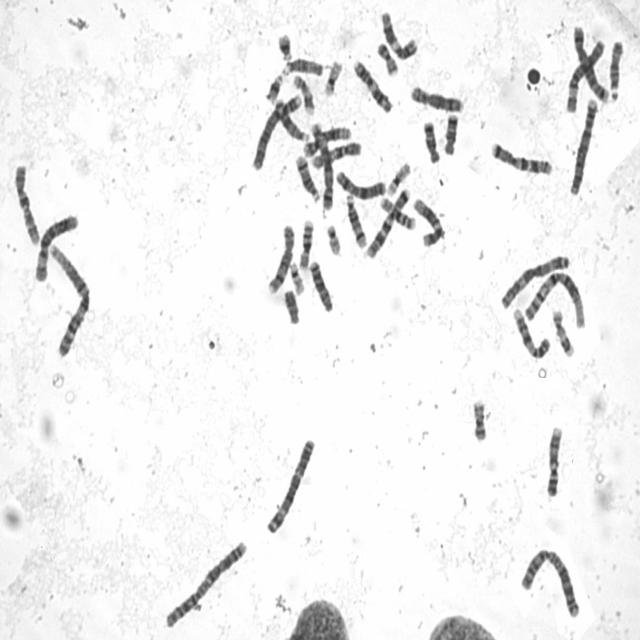A1: (46, 238, 92, 359), (522, 267, 587, 330)
A2: (162, 534, 250, 631), (518, 543, 584, 620)
A3: (263, 433, 317, 536), (496, 250, 572, 312)
B4: (250, 88, 304, 172), (567, 93, 600, 197)
B5: (570, 20, 611, 104), (306, 117, 336, 213)
C10: (11, 158, 42, 247), (308, 136, 363, 171)
C11: (350, 55, 394, 115), (377, 6, 419, 61)
C12: (410, 193, 446, 248), (300, 121, 352, 157)
C6: (32, 209, 80, 283), (563, 34, 607, 114)
C7: (362, 182, 413, 260), (488, 136, 554, 177)
C8: (264, 220, 296, 296), (407, 80, 465, 114)
C9: (510, 303, 552, 360), (544, 421, 565, 498)
D13: (271, 94, 311, 143), (306, 256, 334, 314)
D14: (292, 149, 322, 204), (342, 189, 368, 249)
D15: (607, 35, 625, 103), (280, 53, 324, 79)
E16: (377, 193, 418, 231), (296, 214, 315, 271)
E17: (550, 305, 576, 358), (290, 70, 316, 117)
E18: (420, 116, 442, 164), (441, 109, 460, 157)
F19: (384, 157, 412, 197), (320, 55, 344, 98)
F20: (373, 38, 400, 76), (469, 395, 489, 443)
G21: (263, 68, 286, 104), (274, 28, 294, 62)
G22: (287, 258, 306, 296), (323, 220, 342, 256)
X: (333, 166, 388, 200)
Y: (281, 284, 302, 326)
